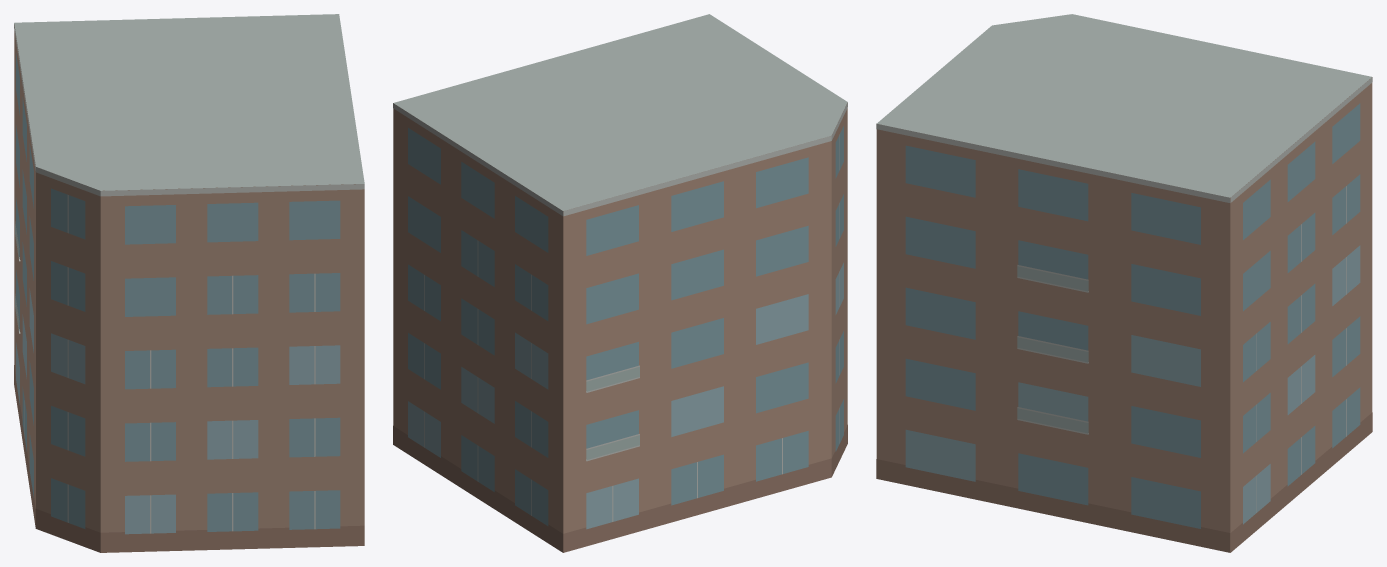
The model's file is survey-upis-32887844.glb.
3 views of the same model, side by side, from view 1: azimuth 30°, elevation 25°; view 2: azimuth 150°, elevation 25°; view 3: azimuth 270°, elevation 25° (orthographic). The views are drawn at different scales.
Parts seen in each view (by area): view 1: survey-upis-32887844.tmp; view 2: survey-upis-32887844.tmp; view 3: survey-upis-32887844.tmp.
Part boxes in pixels (box(x1,y1,x2,y2)): survey-upis-32887844.tmp: box(14, 14, 364, 552); survey-upis-32887844.tmp: box(393, 14, 847, 552); survey-upis-32887844.tmp: box(876, 14, 1372, 552).
Size of the model in its own units: 17.54 by 15.8 by 20.01.
